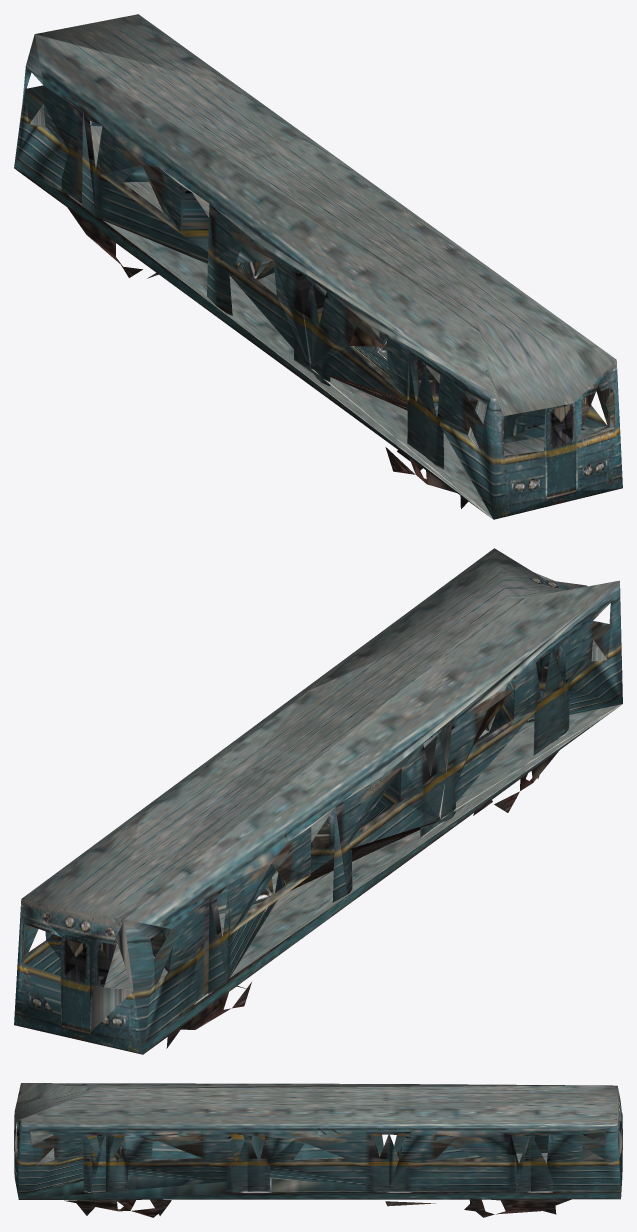
The picture shows the model from 3 angles, top to bottom: view 1: azimuth 30°, elevation 25°; view 2: azimuth 150°, elevation 25°; view 3: azimuth 270°, elevation 25°; orthographic projection. The views are drawn at different scales.
Bounding box in the file's own units: 2.9 × 3.79 × 18.78.
1 material, 1 textured.
